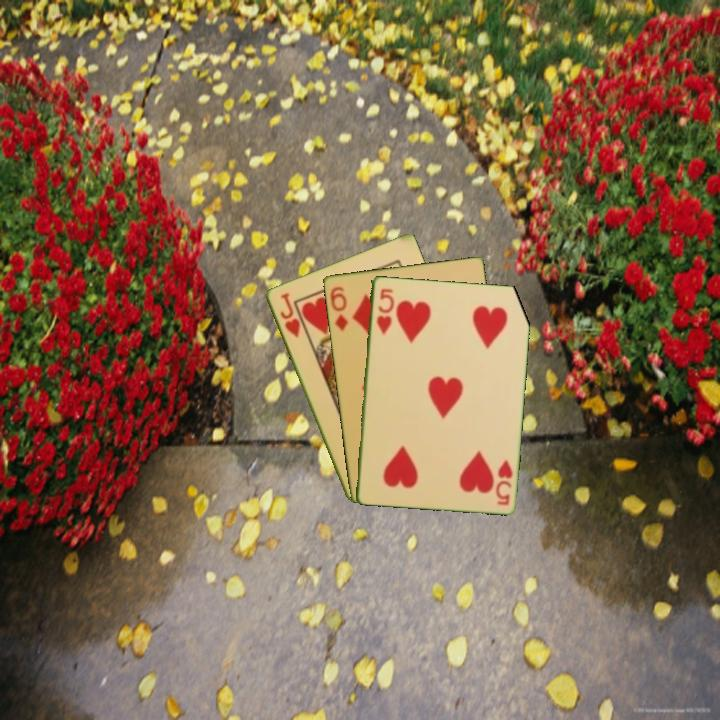5h: (373, 285, 396, 337), (492, 456, 515, 508)
6d: (326, 283, 351, 334)
Jh: (276, 289, 303, 340)
